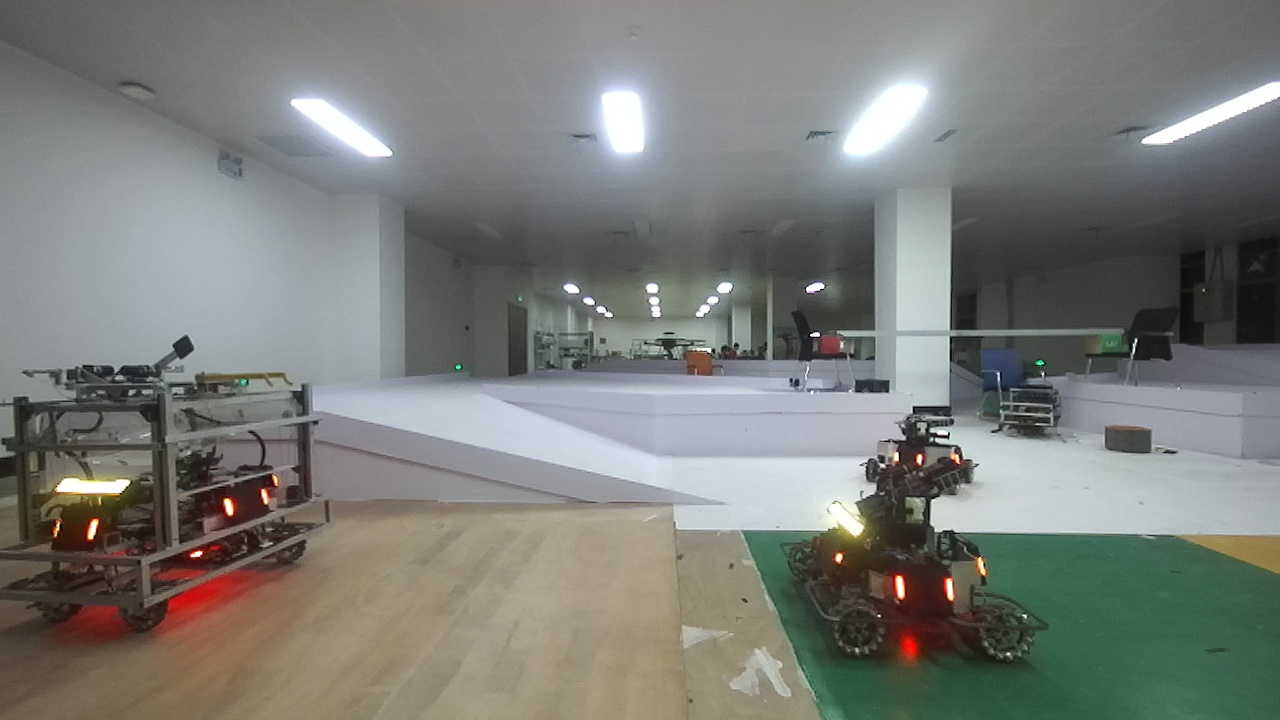car: (1, 310, 348, 651), (781, 443, 1059, 676), (851, 402, 992, 493)
